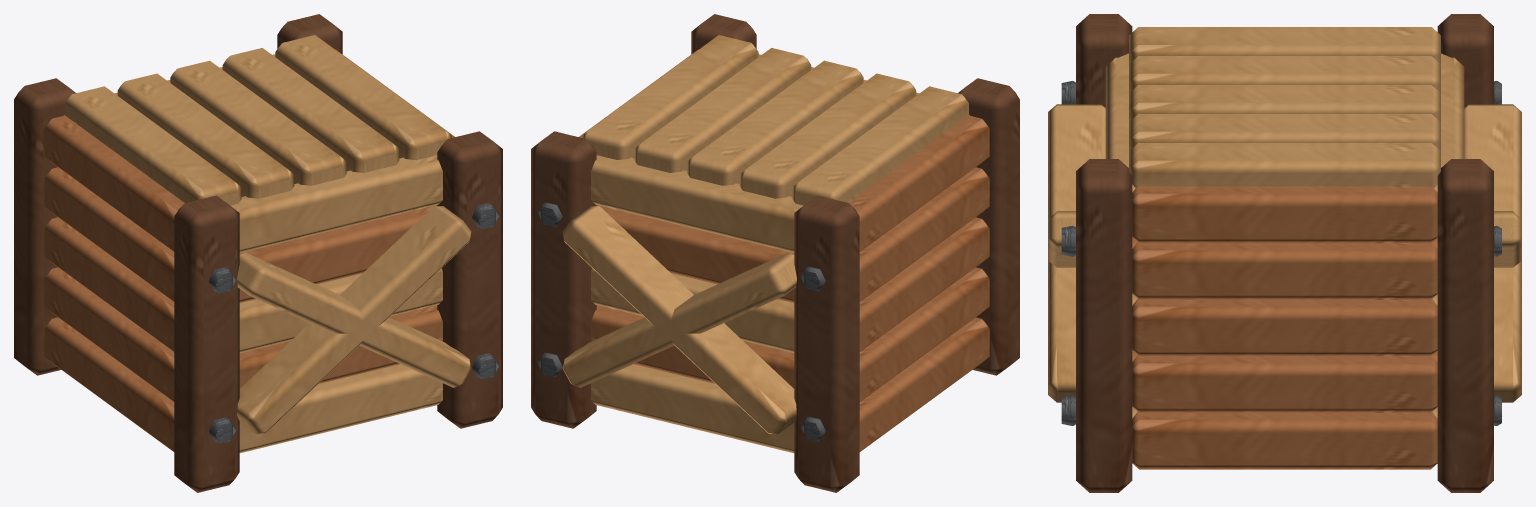
Rendered from SM_Crate_Small.glb.
The picture shows the model from 3 angles, left to right: view 1: azimuth 30°, elevation 25°; view 2: azimuth 150°, elevation 25°; view 3: azimuth 270°, elevation 25°; orthographic projection. The views are drawn at different scales.
Parts seen in each view (by area): view 1: SM_Crate_Small; view 2: SM_Crate_Small; view 3: SM_Crate_Small.
Part boxes in pixels (x1,y1,x2,y2): SM_Crate_Small: (14,14,502,492); SM_Crate_Small: (531,14,1019,492); SM_Crate_Small: (1048,14,1521,492).
Size of the model in its own units: 0.66 by 0.5625 by 0.76.
Materials: 1 (1 with a texture image).
